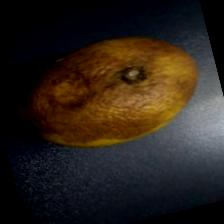Orange Rotten: (0, 0, 218, 170)
